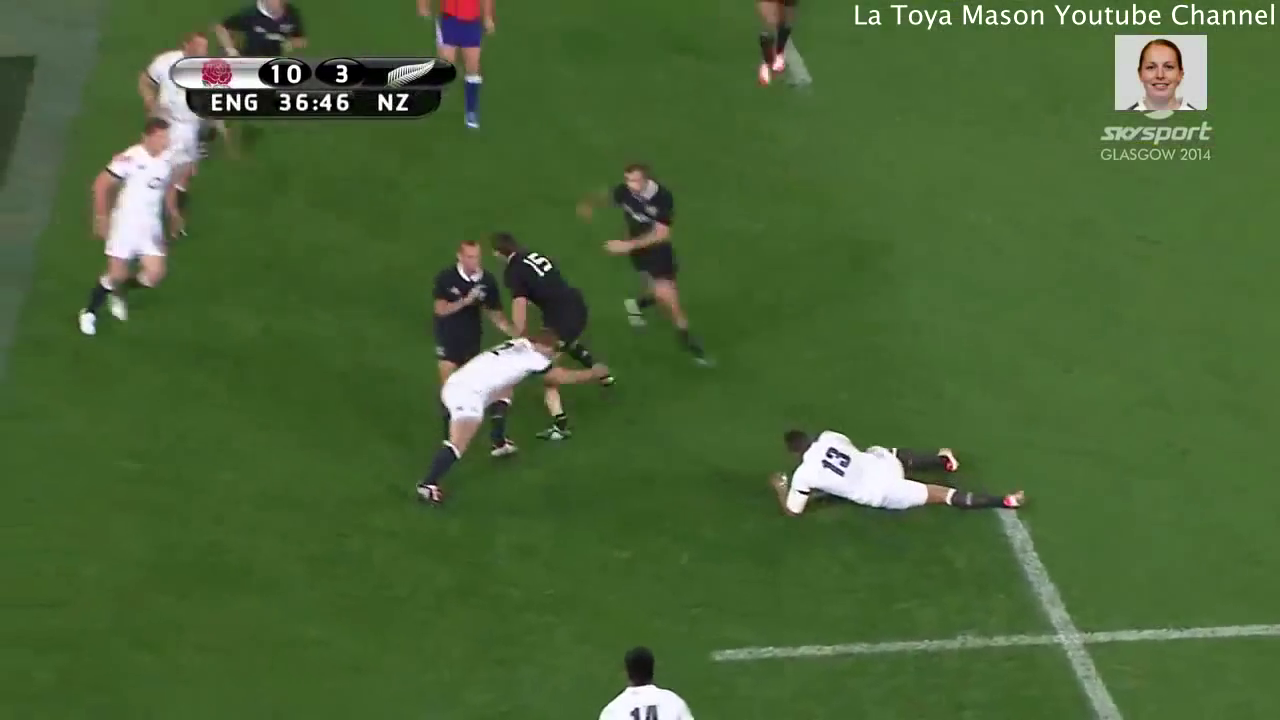10_metre: (684, 481, 1280, 720)
player: (409, 324, 605, 515), (485, 222, 621, 468), (569, 157, 719, 369), (765, 420, 1047, 526), (123, 20, 241, 264), (69, 112, 184, 346), (415, 230, 515, 455), (404, 1, 505, 132), (593, 646, 704, 720), (202, 1, 324, 63)
